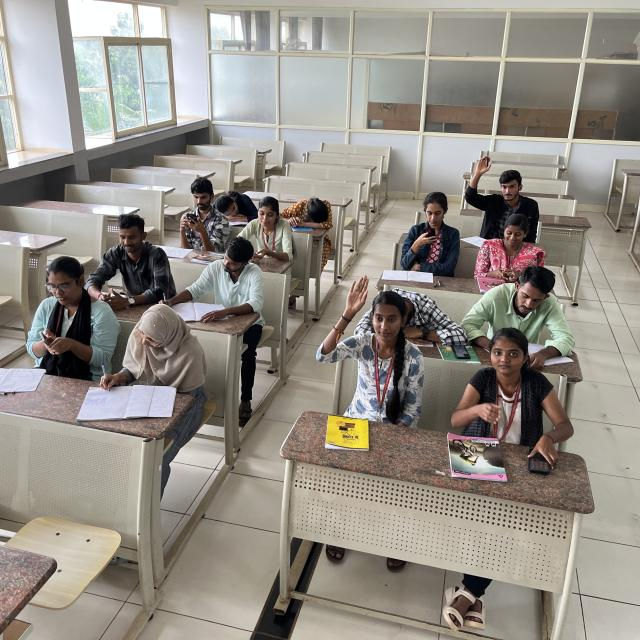Hand Rising: (317, 266, 425, 411), (462, 145, 566, 223)
Reading: (471, 265, 586, 359)
Sleeping: (372, 281, 466, 343), (268, 191, 363, 238), (212, 178, 266, 222)
Using Phone: (20, 254, 116, 378), (394, 186, 459, 266), (168, 176, 232, 253), (238, 198, 295, 264)
Writing: (76, 297, 205, 413), (153, 247, 270, 324)
